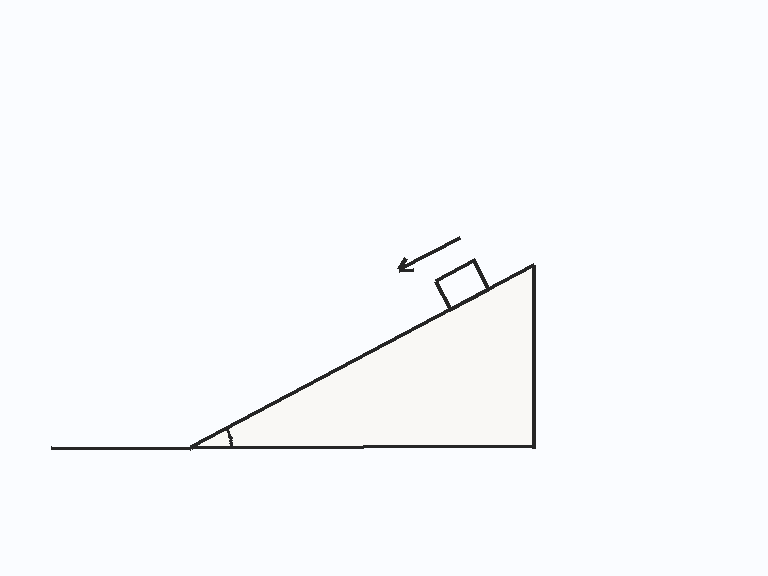block: (433, 258, 491, 311)
ramp: (189, 263, 536, 449)
